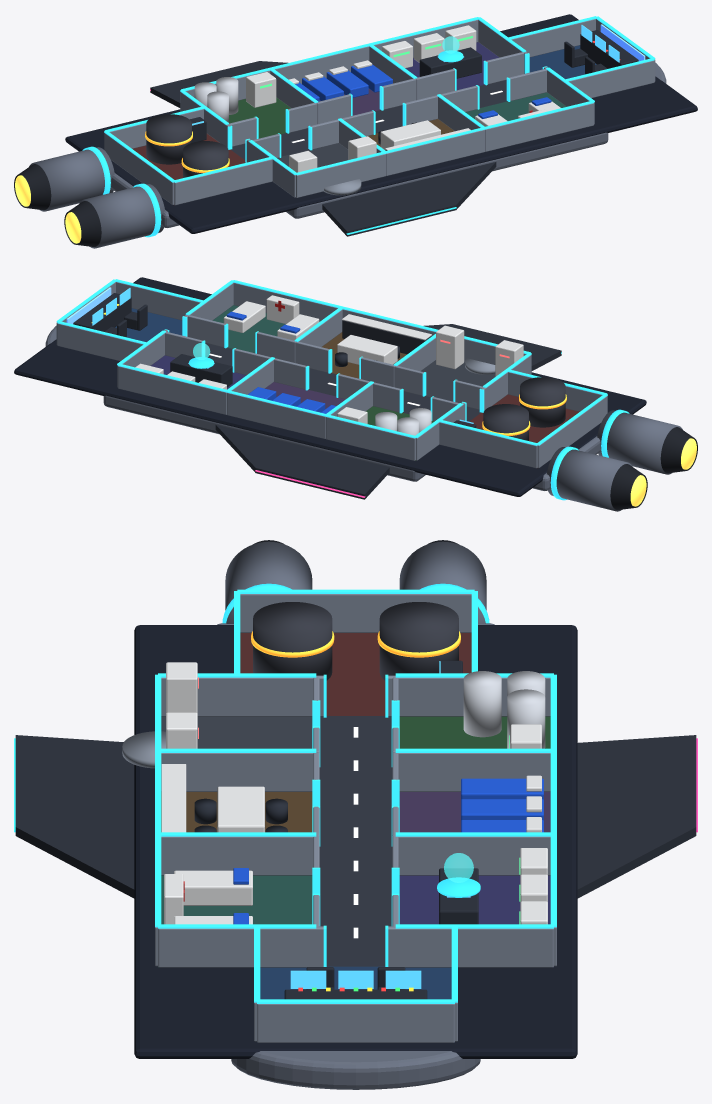
The model's file is deck.glb.
3 views of the same model, one above another, from view 1: azimuth 30°, elevation 25°; view 2: azimuth 150°, elevation 25°; view 3: azimuth 270°, elevation 25° (orthographic). The views are drawn at different scales.
Visible parts, largest first — view 1: Hull.001, Wing1, Nacelle0, Nacelle1, ShipBody, Wall_Medbay_out, Wall_Galley_out, Wall_Engines_b, Floor_Corridor, Wall_Airlock_out, Reactor1, Wall_Bridge_b (+57 smaller); view 2: Hull.001, Wing0, Nacelle1, Nacelle0, ShipBody, Wall_Lab_out, Wall_Quarters_out, Wall_Engines_t, Wall_LifeSupport_out, Reactor0, Wall_Bridge_t, Floor_Corridor (+54 smaller); view 3: Hull.001, Floor_Corridor, Wing0, Wing1, ShipBody, Wall_Bridge_front, Wall_Galley_r, Floor_Engines, Reactor0, Wall_Airlock_r, Wall_Medbay_r, Wall_Lab_l (+35 smaller).
Part boxes in pixels (box(x1,y1,x2,y2)): Hull.001: box(65, 14, 697, 233); Wing1: box(322, 162, 496, 236); Nacelle0: box(79, 184, 164, 248); Nacelle1: box(29, 147, 114, 211); ShipBody: box(111, 62, 666, 227); Wall_Medbay_out: box(485, 103, 593, 151); Wall_Galley_out: box(386, 129, 484, 175); Wall_Engines_b: box(174, 159, 272, 205); Floor_Corridor: box(230, 80, 507, 159); Wall_Airlock_out: box(296, 154, 385, 197); Reactor1: box(146, 114, 191, 164); Wall_Bridge_b: box(568, 60, 654, 98); Hull.001: box(14, 277, 646, 496); Wing0: box(215, 425, 389, 499); Nacelle1: box(547, 447, 632, 511); Nacelle0: box(597, 410, 682, 474); ShipBody: box(45, 325, 600, 490); Wall_Lab_out: box(118, 366, 226, 414); Wall_Quarters_out: box(227, 392, 325, 438); Wall_Engines_t: box(439, 422, 537, 468); Wall_LifeSupport_out: box(326, 417, 415, 460); Reactor0: box(520, 377, 565, 427); Wall_Bridge_t: box(57, 323, 143, 361); Floor_Corridor: box(205, 343, 481, 421); Hull.001: box(134, 625, 577, 1058); Floor_Corridor: box(319, 716, 392, 966); Wing0: box(577, 735, 696, 898); Wing1: box(15, 735, 134, 898); ShipBody: box(217, 623, 494, 1089); Wall_Bridge_front: box(257, 1004, 454, 1042); Wall_Galley_r: box(161, 836, 313, 875); Floor_Engines: box(240, 633, 471, 715); Reactor0: box(253, 602, 332, 680); Wall_Airlock_r: box(161, 753, 313, 791); Wall_Medbay_r: box(158, 928, 315, 967); Wall_Lab_l: box(398, 836, 550, 875).
Size of the model in its own units: 30.45 by 3.36 by 17.28.
